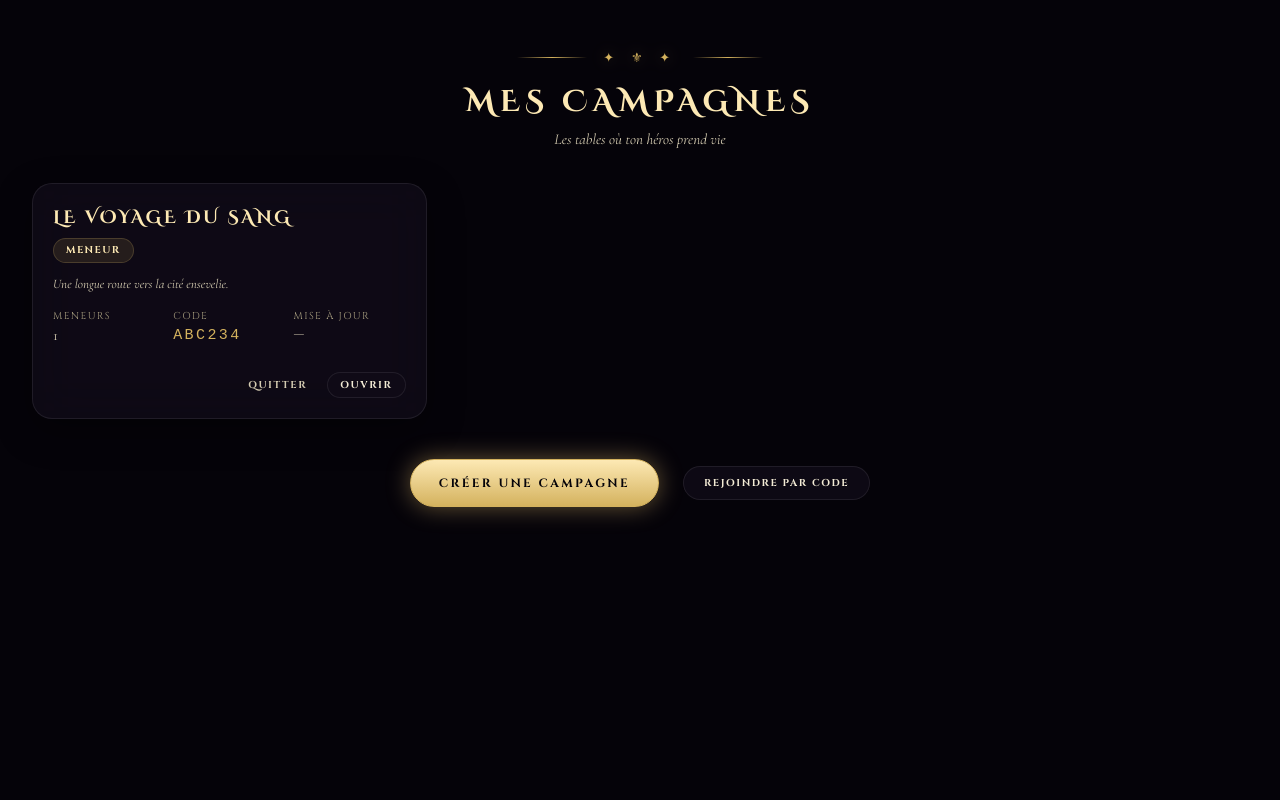
Test: <CampaignsListScreen> — liste avec items › clic sur 'Quitter' ouvre la modale de confirmation avec le nom de la campagne
Click the button "Quitter" at (278, 384), box top-left (236, 372), bottom-right (319, 398)
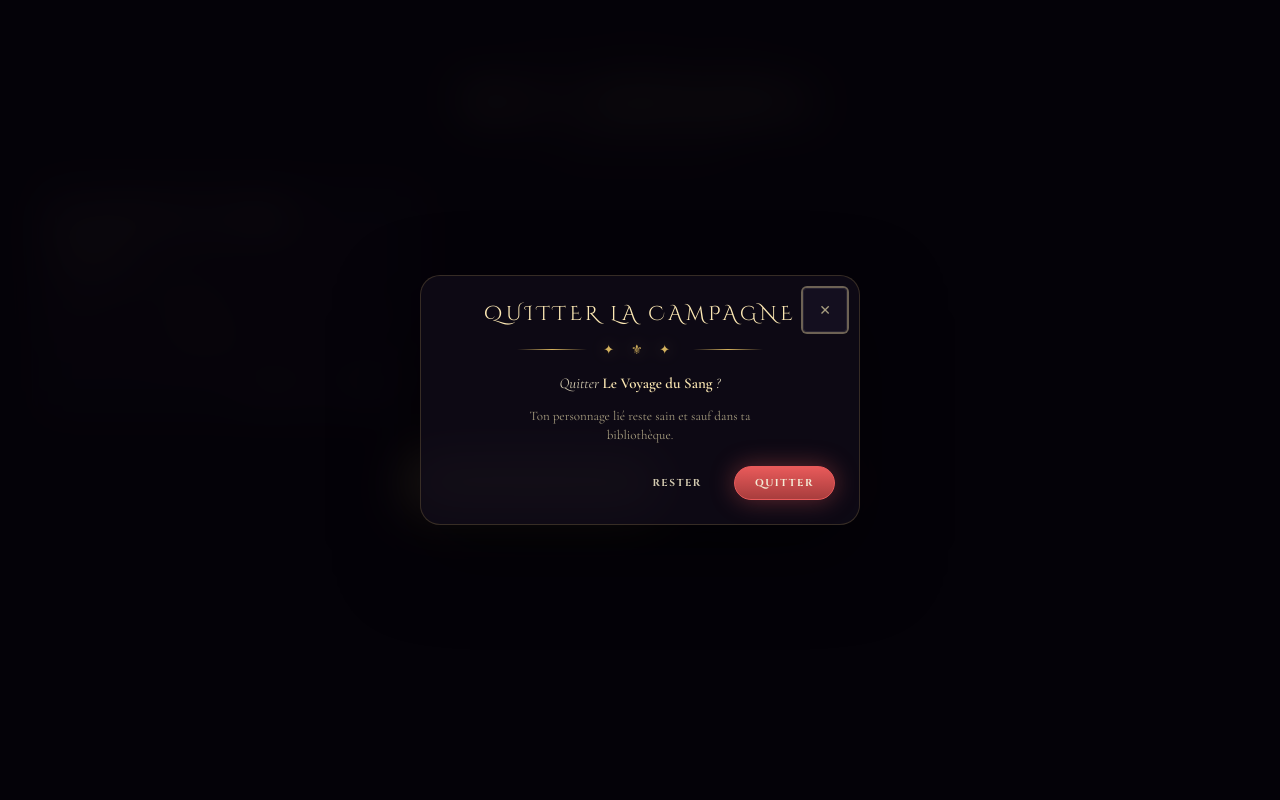
Check: the dialog is shown
